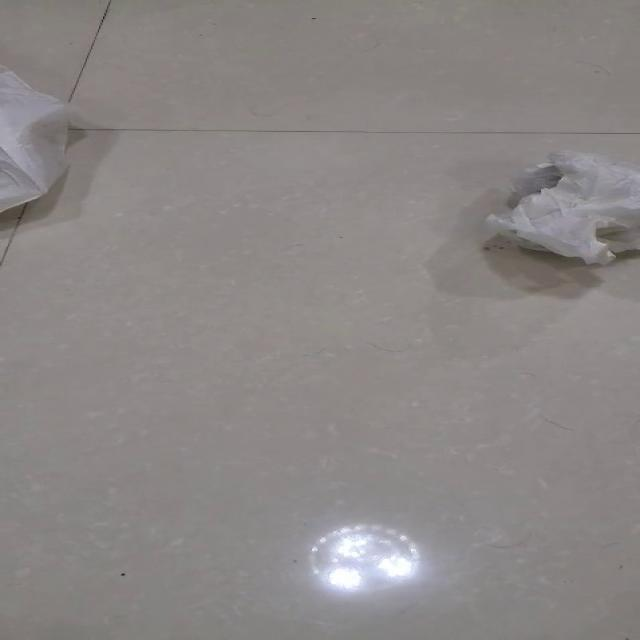plastic: (484, 148, 638, 266), (0, 64, 71, 213)
